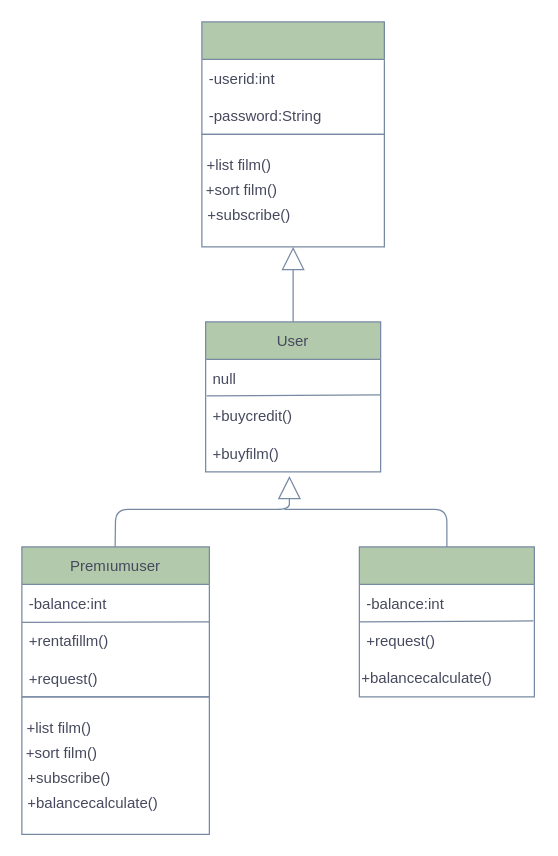
The diagram is 558 pixels wide and 856 high, and some of its shapes have lost their labels. The shapes that lost their labels are listed below. From the top down, each one's box as (x1, y1, x2, y2) in pixels, then its label:
(201, 21, 384, 134): FILM APP
(358, 546, 534, 697): Standartuser
